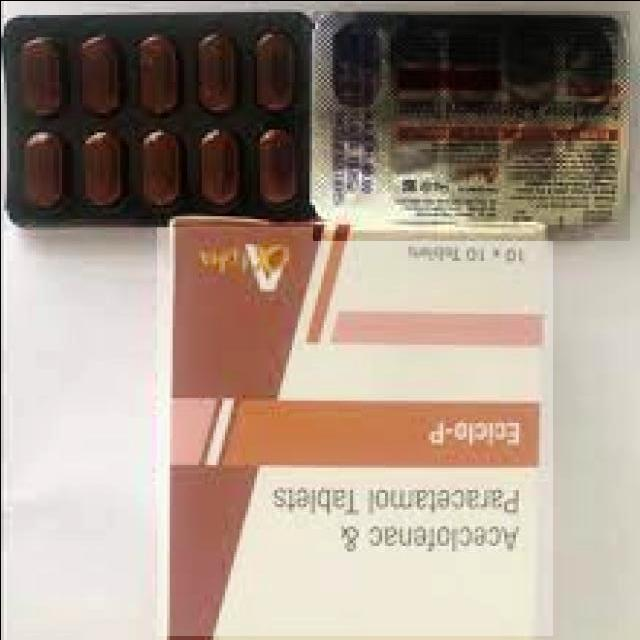authentic: (156, 226, 552, 635), (312, 10, 629, 240), (0, 5, 312, 225)
